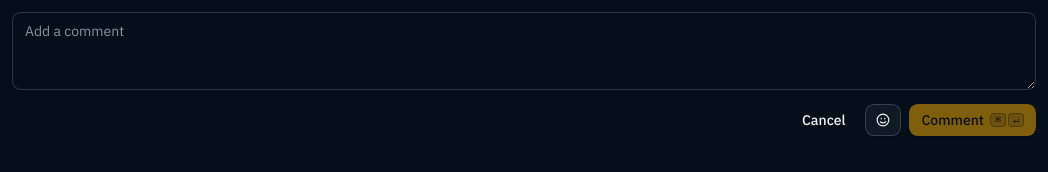
Test: A — Composer text submit › a resolved write clears the draft (the other half of the contract)
Type "the chart y-axis is unlabelled" into the text box with placeholder "Add a comment" at (524, 51), box top-left (12, 12), bottom-right (1036, 90)
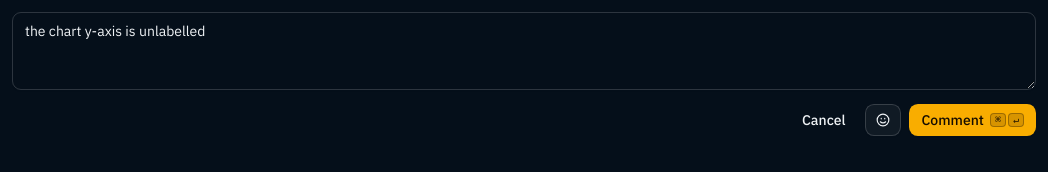
Click the button "Comment ⌘ ↵" at (973, 120), box top-left (910, 104), bottom-right (1036, 136)
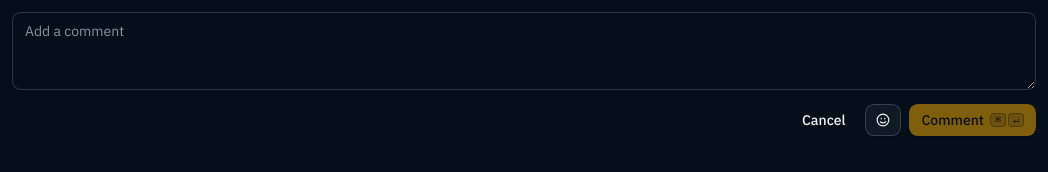
Check: the text box with placeholder "Add a comment" is empty, box top-left (12, 12), bottom-right (1036, 90)
Check: the button "Comment ⌘ ↵" is disabled, box top-left (910, 104), bottom-right (1036, 136)
